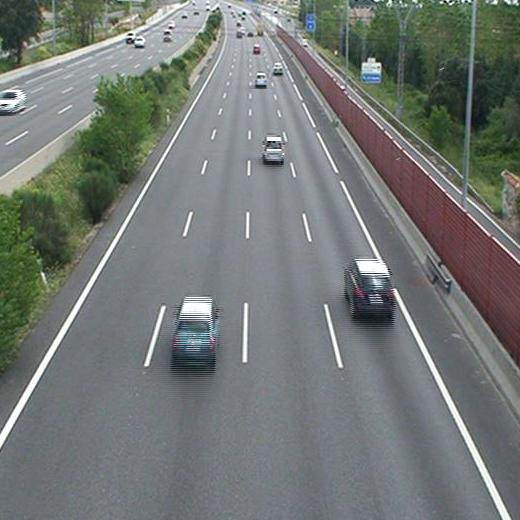car: (173, 297, 217, 361), (345, 260, 394, 313), (263, 137, 284, 162), (254, 72, 268, 87), (273, 62, 284, 73), (252, 45, 261, 53)
